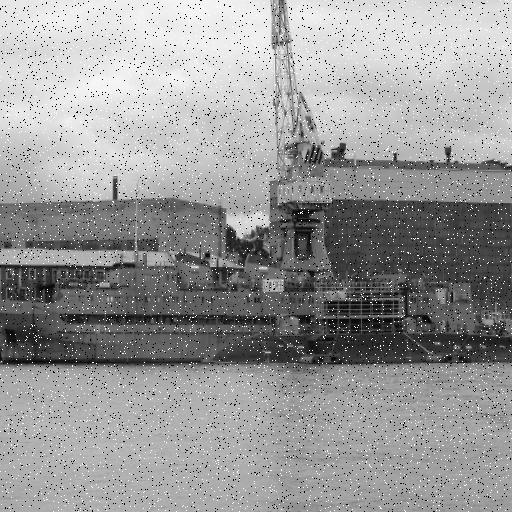submarine: (211, 332, 512, 365)
